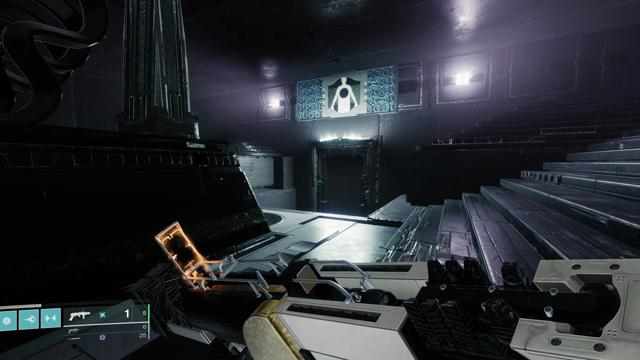grief: (328, 77, 360, 113)
